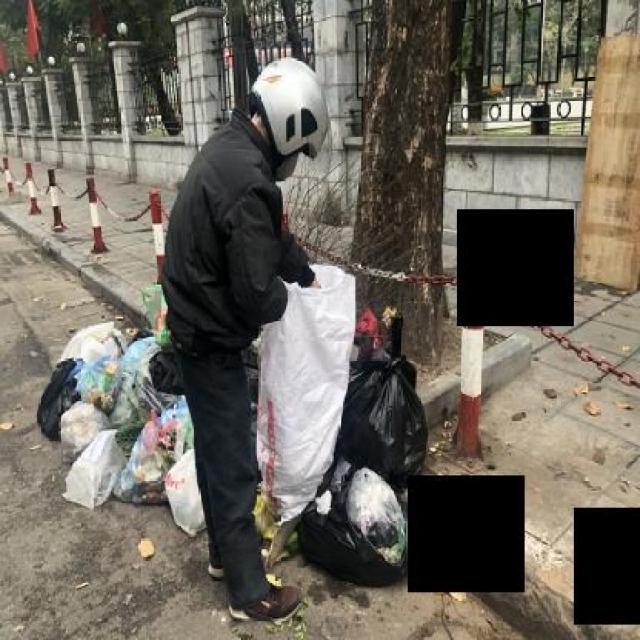plastic bag: (235, 246, 388, 520), (329, 335, 431, 494), (296, 451, 424, 574), (37, 312, 131, 451), (163, 432, 222, 542), (117, 403, 177, 505), (59, 422, 124, 511)
